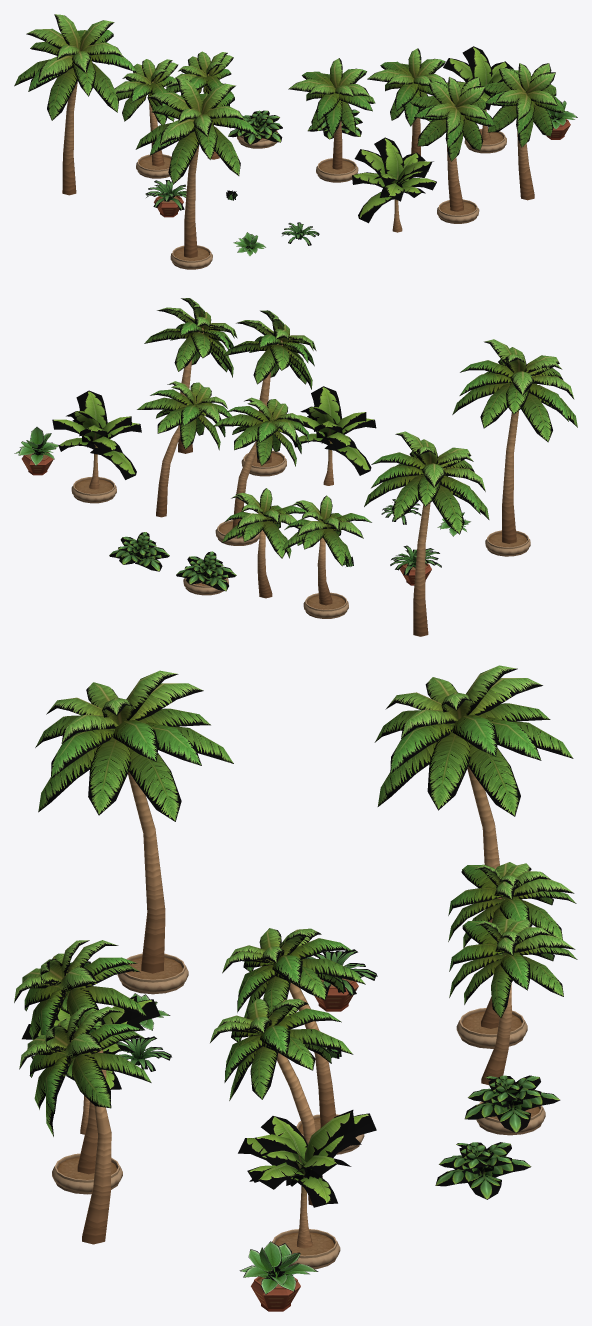
Rendered from Trees.glb.
3 renders of one model, top to bottom at view 1: azimuth 30°, elevation 25°; view 2: azimuth 150°, elevation 25°; view 3: azimuth 270°, elevation 25°, orthographic. The views are drawn at different scales.
Parts seen in each view (by area): view 1: Palm_2, Palm_2_1, Palm_4_1, Palm_4, Palm_1, Palm_5_1, Palm_5, Palm_3_1, Palm_3, Palm_1_1, Bush_3, Clumb_5 (+10 smaller); view 2: Palm_2, Palm_2_1, Palm_5, Palm_5_1, Palm_1_1, Palm_4, Palm_4_1, Palm_1, Palm_3_1, Palm_3, Bush_3, Bush_3_1 (+7 smaller); view 3: Palm_2_1, Palm_2, Palm_4, Palm_5, Palm_3, Palm_5_1, Palm_4_1, Palm_1_1, Palm_3_1, Bush_3_1, Bush_3, Bush_1 (+9 smaller).
Part boxes in pixels (bbox=[...]): Palm_2: bbox=[14, 14, 136, 195]; Palm_2_1: bbox=[135, 77, 258, 257]; Palm_4_1: bbox=[410, 77, 494, 211]; Palm_4: bbox=[484, 63, 565, 200]; Palm_1: bbox=[352, 137, 436, 232]; Palm_5_1: bbox=[288, 58, 375, 169]; Palm_5: bbox=[367, 48, 447, 155]; Palm_3_1: bbox=[114, 59, 178, 166]; Palm_3: bbox=[165, 51, 233, 159]; Palm_1_1: bbox=[443, 46, 518, 140]; Bush_3: bbox=[228, 110, 282, 144]; Clumb_5: bbox=[316, 158, 358, 182]; Palm_2: bbox=[364, 431, 489, 636]; Palm_2_1: bbox=[452, 339, 577, 543]; Palm_5: bbox=[137, 381, 232, 517]; Palm_5_1: bbox=[213, 397, 308, 528]; Palm_1_1: bbox=[52, 390, 141, 489]; Palm_4: bbox=[144, 298, 237, 453]; Palm_4_1: bbox=[223, 310, 316, 464]; Palm_1: bbox=[288, 386, 376, 485]; Palm_3_1: bbox=[282, 495, 371, 605]; Palm_3: bbox=[222, 488, 306, 598]; Bush_3: bbox=[176, 551, 236, 591]; Bush_3_1: bbox=[109, 532, 169, 571]; Palm_2_1: bbox=[35, 670, 233, 973]; Palm_2: bbox=[374, 665, 573, 967]; Palm_4: bbox=[19, 1006, 151, 1244]; Palm_5: bbox=[210, 998, 353, 1205]; Palm_3: bbox=[449, 918, 577, 1084]; Palm_5_1: bbox=[222, 928, 365, 1127]; Palm_4_1: bbox=[14, 940, 146, 1174]; Palm_1_1: bbox=[238, 1110, 376, 1248]; Palm_3_1: bbox=[448, 862, 576, 1028]; Bush_3_1: bbox=[435, 1142, 531, 1199]; Bush_3: bbox=[464, 1075, 560, 1133]; Bush_1: bbox=[239, 1241, 318, 1294].
Bounding box in the file's own units: 28.62 × 10.29 × 17.26.
3 materials, 3 textured.
